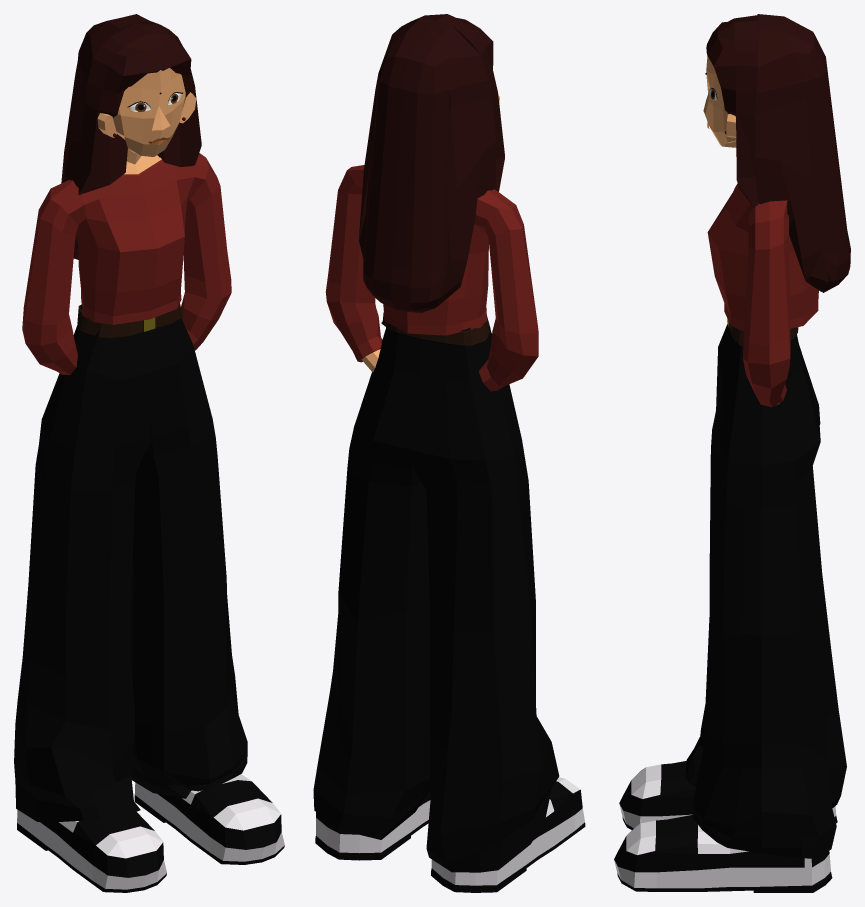
Rendered from Low Poly My character1.glb.
3 renders of one model, left to right at view 1: azimuth 30°, elevation 25°; view 2: azimuth 150°, elevation 25°; view 3: azimuth 270°, elevation 25°, orthographic. The views are drawn at different scales.
Visible parts, largest first — view 1: leg 1, leg 2, Body, Hair, shoe2, shoe1, Face, Belt; view 2: leg 1, leg 2, Hair, Body, shoe1, shoe2, Belt; view 3: leg 2, Hair, Body, shoe2, leg 1, shoe1, Face.
Part boxes in pixels (x1,y1,x2,y2): leg 1: (14,304,152,822); leg 2: (131,318,247,798); Body: (22,148,231,374); Hair: (61,14,201,259); shoe2: (134,774,284,864); shoe1: (17,809,166,892); Face: (119,68,185,156); Belt: (77,303,182,337); leg 1: (410,325,559,872); leg 2: (313,327,430,839); Hair: (359,14,504,312); Body: (325,165,538,391); shoe1: (431,777,585,892); shoe2: (315,789,430,860); Belt: (381,312,490,345); leg 2: (692,332,836,858); Hair: (706,14,850,292); Body: (707,184,818,407); shoe2: (614,814,832,892); leg 1: (685,323,846,807); shoe1: (619,761,837,829); Face: (703,56,736,147).
Size of the model in its own units: 2.55 by 9.31 by 2.41.
